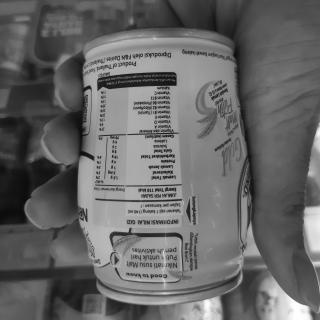alumunium_can: (65, 21, 253, 320)
